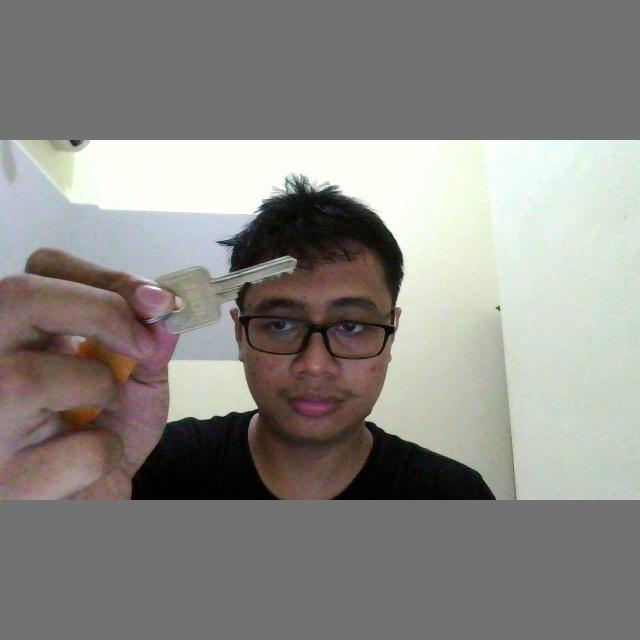Keys: (156, 246, 300, 340)
